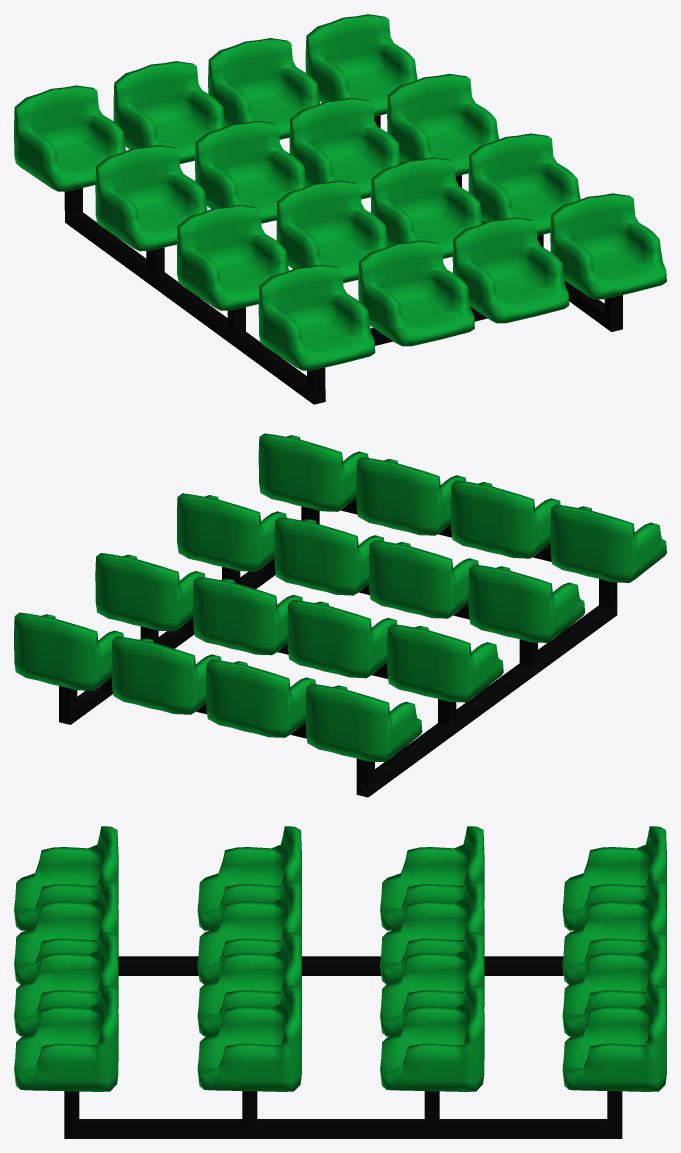
The model's file is prop_bloque_de_sillas.fbx.
3 renders of one model, top to bottom at view 1: azimuth 30°, elevation 25°; view 2: azimuth 150°, elevation 25°; view 3: azimuth 270°, elevation 25°, orthographic. The views are drawn at different scales.
Visible parts, largest first — view 1: polySurface15, polySurface19, polySurface18, polySurface20, polySurface21, polySurface25, polySurface29, polySurface22, polySurface30, polySurface26, polySurface24, polySurface32 (+6 smaller); view 2: polySurface15, polySurface21, polySurface25, polySurface29, polySurface26, polySurface30, polySurface19, polySurface22, polySurface18, polySurface28, polySurface24, polySurface32 (+6 smaller); view 3: pCube3, polySurface18, polySurface28, polySurface24, polySurface32, polySurface15, polySurface25, polySurface29, polySurface21, polySurface20, polySurface27, polySurface31 (+10 smaller).
Boxes of the visible parts, <box> form: polySurface15: <box>258,264,375,370</box>; polySurface19: <box>358,240,474,346</box>; polySurface18: <box>550,193,666,299</box>; polySurface20: <box>452,217,569,323</box>; polySurface21: <box>177,204,288,310</box>; polySurface25: <box>95,145,207,251</box>; polySurface29: <box>14,85,125,191</box>; polySurface22: <box>276,180,388,283</box>; polySurface30: <box>113,61,225,163</box>; polySurface26: <box>195,120,306,223</box>; polySurface24: <box>468,133,580,235</box>; polySurface32: <box>305,14,417,116</box>; polySurface15: <box>550,504,666,582</box>; polySurface21: <box>468,564,584,642</box>; polySurface25: <box>387,624,503,702</box>; polySurface29: <box>305,683,422,761</box>; polySurface26: <box>287,600,397,678</box>; polySurface30: <box>206,659,315,737</box>; polySurface19: <box>450,480,560,558</box>; polySurface22: <box>369,540,478,618</box>; polySurface18: <box>258,433,368,511</box>; polySurface28: <box>95,553,205,631</box>; polySurface24: <box>177,493,286,571</box>; polySurface32: <box>14,612,123,690</box>; pCube3: <box>64,1119,622,1138</box>; polySurface18: <box>14,985,118,1091</box>; polySurface28: <box>380,985,484,1091</box>; polySurface24: <box>197,985,301,1091</box>; polySurface32: <box>562,985,666,1091</box>; polySurface15: <box>14,826,118,930</box>; polySurface25: <box>380,826,484,930</box>; polySurface29: <box>562,826,666,930</box>; polySurface21: <box>197,826,301,930</box>; polySurface20: <box>14,932,118,1036</box>; polySurface27: <box>380,932,484,1036</box>; polySurface31: <box>562,932,666,1036</box>.
Size of the model in its own units: 4.51 by 1.36 by 6.1.
